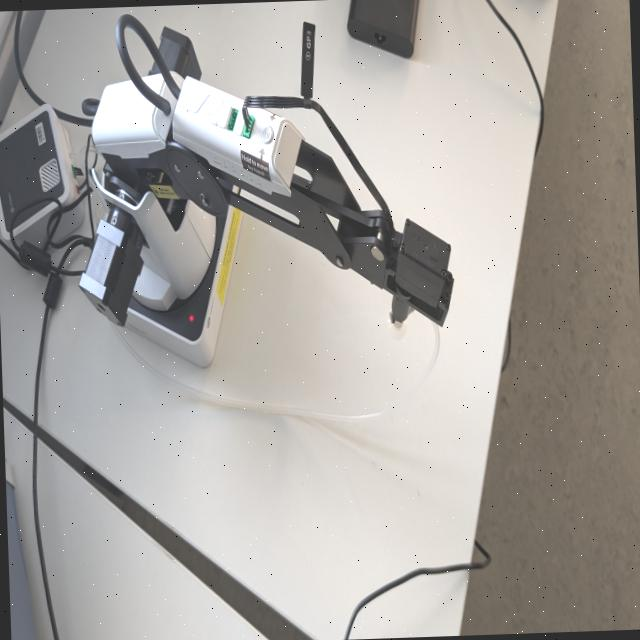Robot-end-effector-HF8z: (380, 215, 458, 348)
